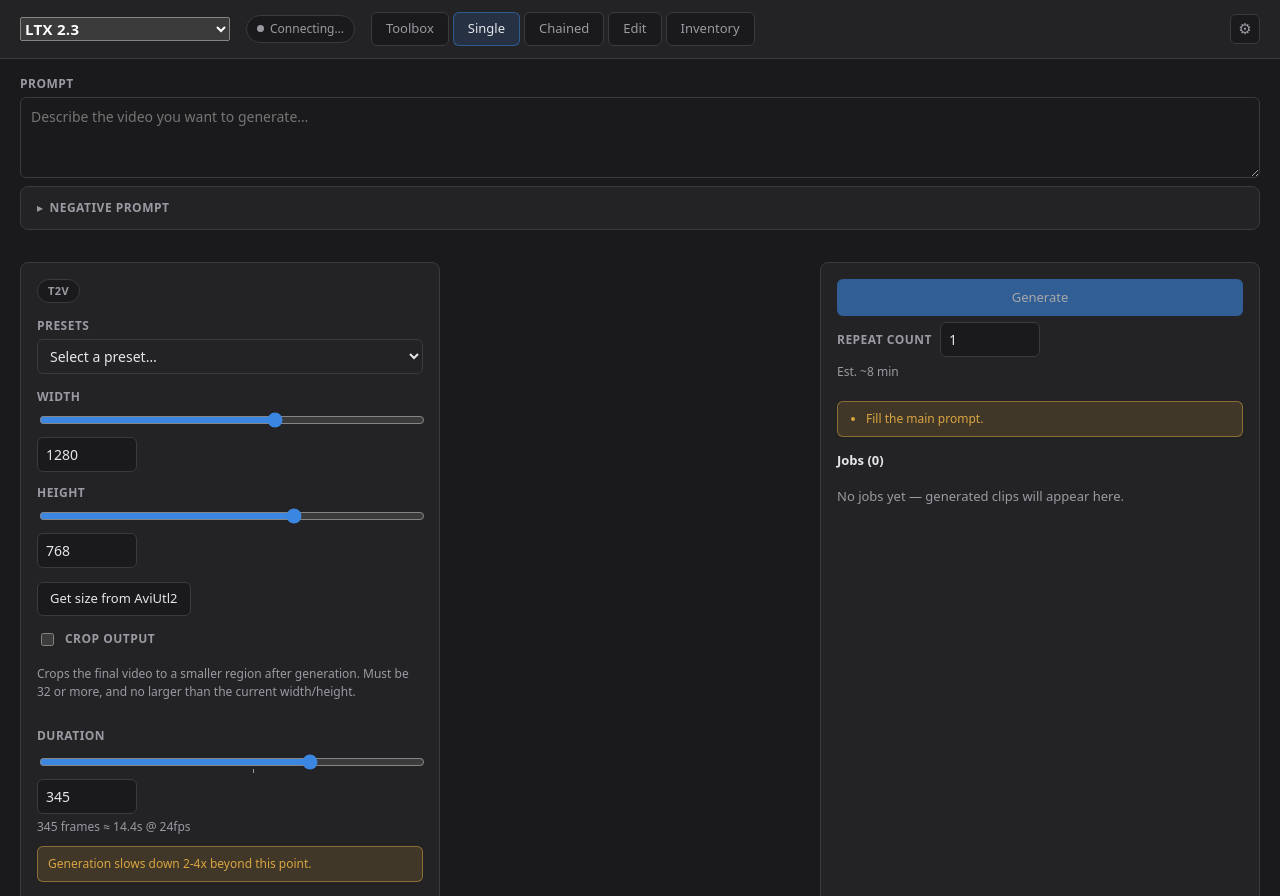
Test: AppShell — header base-model dropdown › a 422 shows the server's own reason and puts the selection back
The width and height of the screenshot is (1280, 896).
Expected: the button "Generate" is shown, [837,278,1243,316]
Select "LTX 2.5 (partly installed)" in the dropdown named "base model" at (125, 29), box [20,17,230,41]
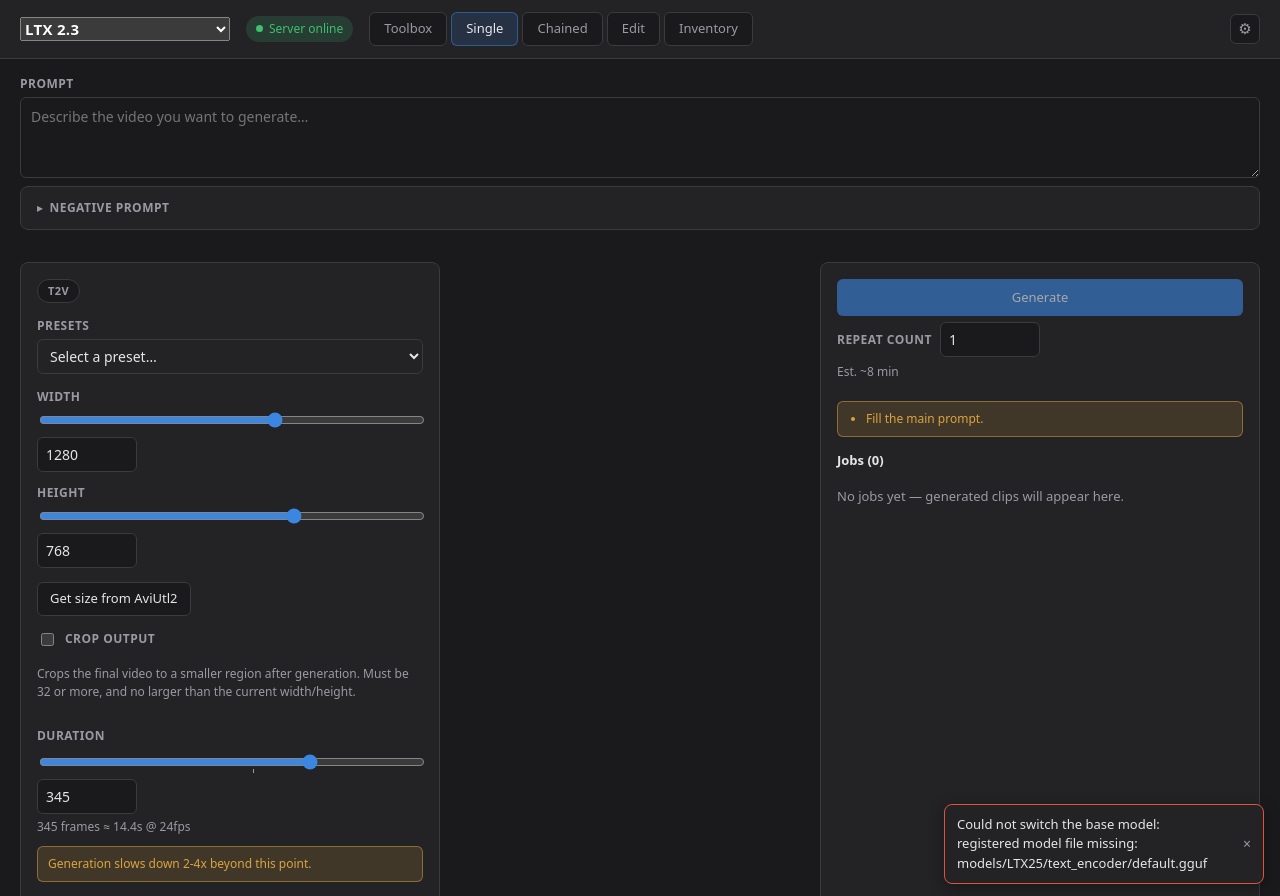
Result: the button with class "toast-message" shows "registered model file missing" at [949,808,1227,879]
